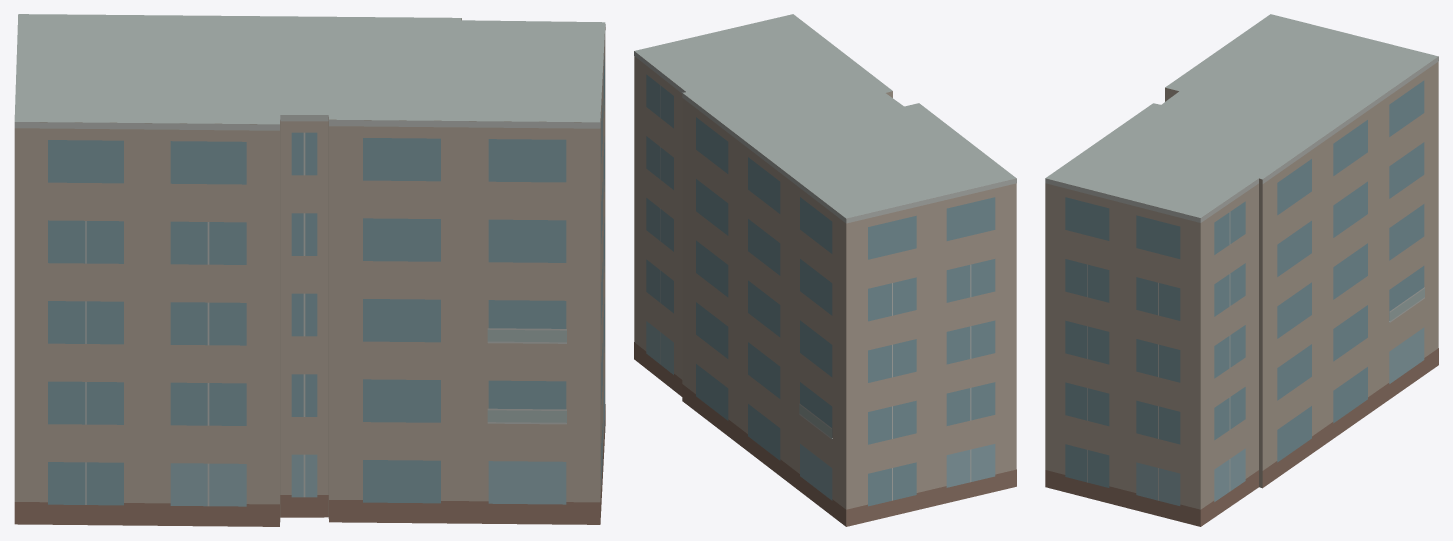
Rendered from survey-upis-32754709.glb.
3 views of the same model, side by side, from view 1: azimuth 30°, elevation 25°; view 2: azimuth 150°, elevation 25°; view 3: azimuth 270°, elevation 25° (orthographic). The views are drawn at different scales.
Parts seen in each view (by area): view 1: survey-upis-32754709.tmp; view 2: survey-upis-32754709.tmp; view 3: survey-upis-32754709.tmp.
Boxes of the visible parts, <box> form: survey-upis-32754709.tmp: <box>14,14,605,526</box>; survey-upis-32754709.tmp: <box>634,14,1016,526</box>; survey-upis-32754709.tmp: <box>1045,14,1438,526</box>.
Size of the model in its own units: 21.63 by 15.25 by 17.62.
